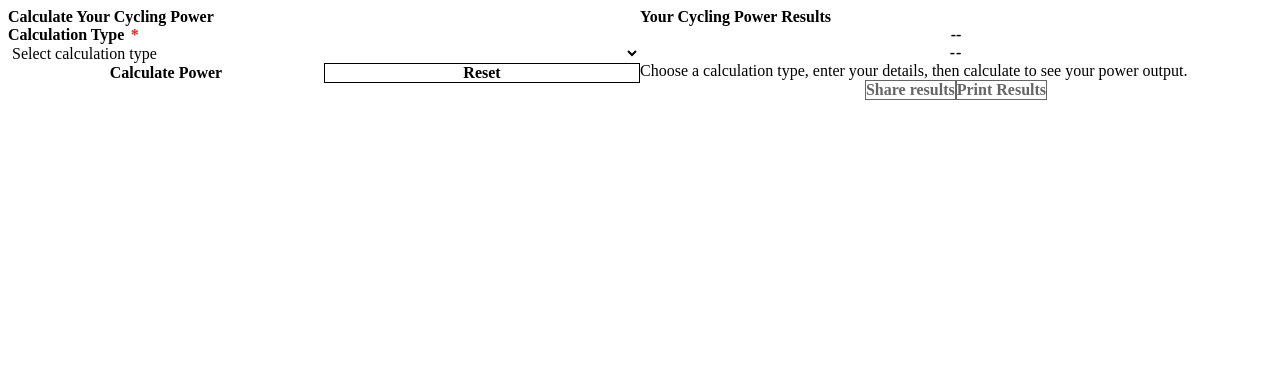
Test case: CyclingPowerCalculator › computes the source physics example end-to-end
Select "Calculate Power from Speed" in the dropdown labelled "Calculation Type". click: (324, 54)
box: [8,44,640,63]
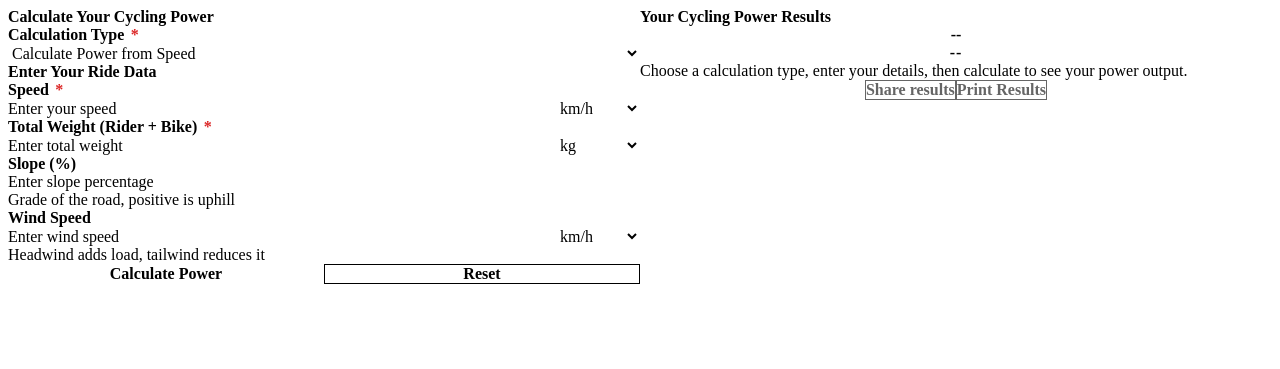
Type "30" into the number field labelled "speed". click: (282, 108)
box: [8,99,556,118]
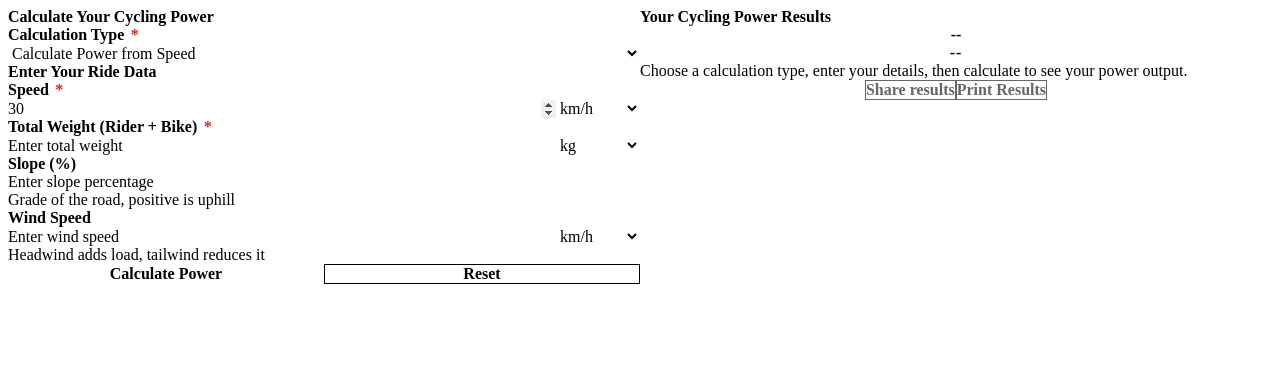
Type "80" into the number field named "Total Weight (Rider + Bike)". click: (282, 146)
box: [8,136,556,155]
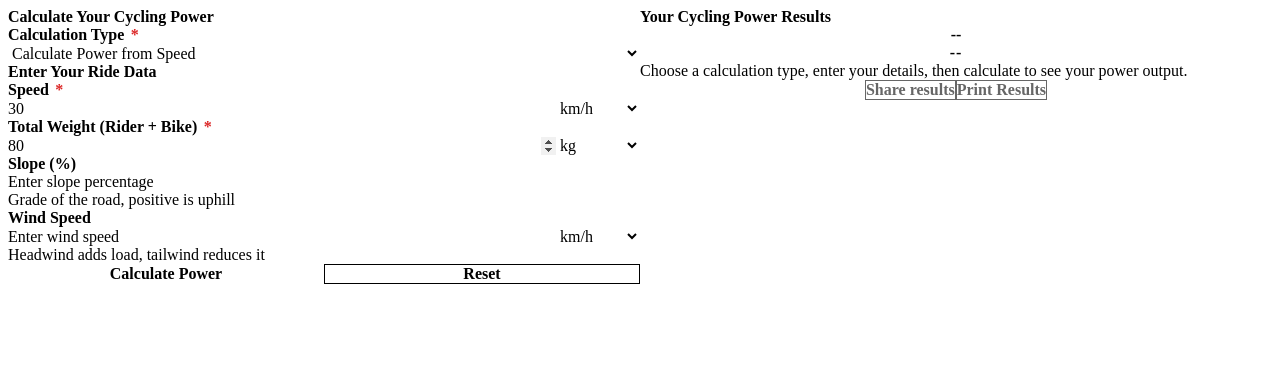
Click the button "Calculate Power". click: click(166, 274)
box: [8,264,324,284]
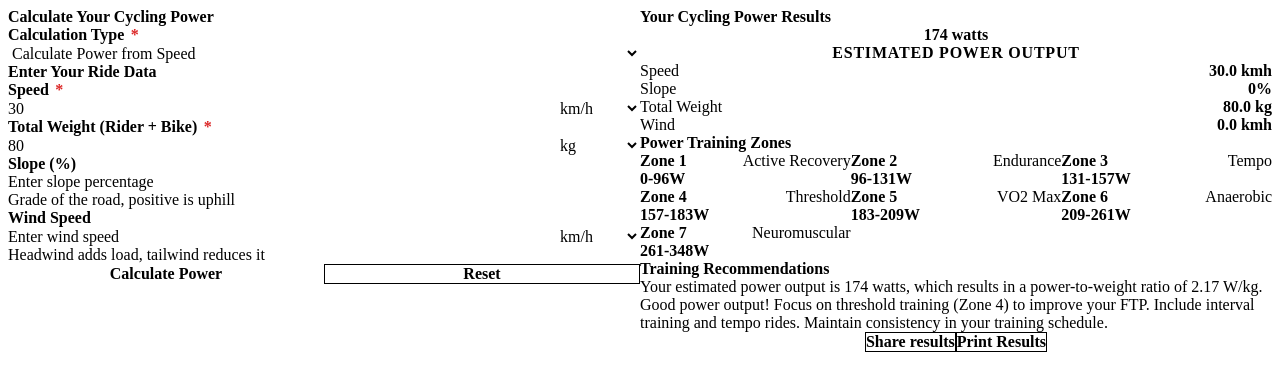
Expected: the element "Your Cycling Power Results" shows "174 watts", [924,26,988,43]
Expected: the element "Your Cycling Power Results" shows "Estimated Power Output", [832,44,1080,61]
Expected: the element "Your Cycling Power Results" shows "30.0 kmh", [1209,62,1272,79]
